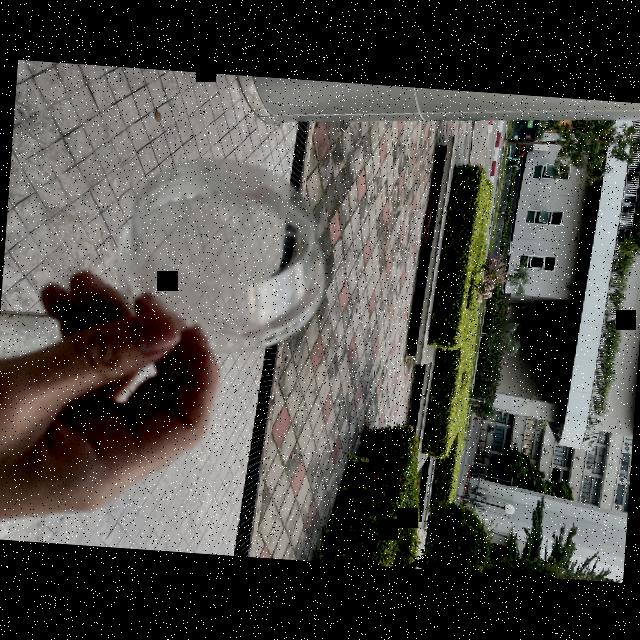plastic_cup_lid: (110, 138, 351, 365)
